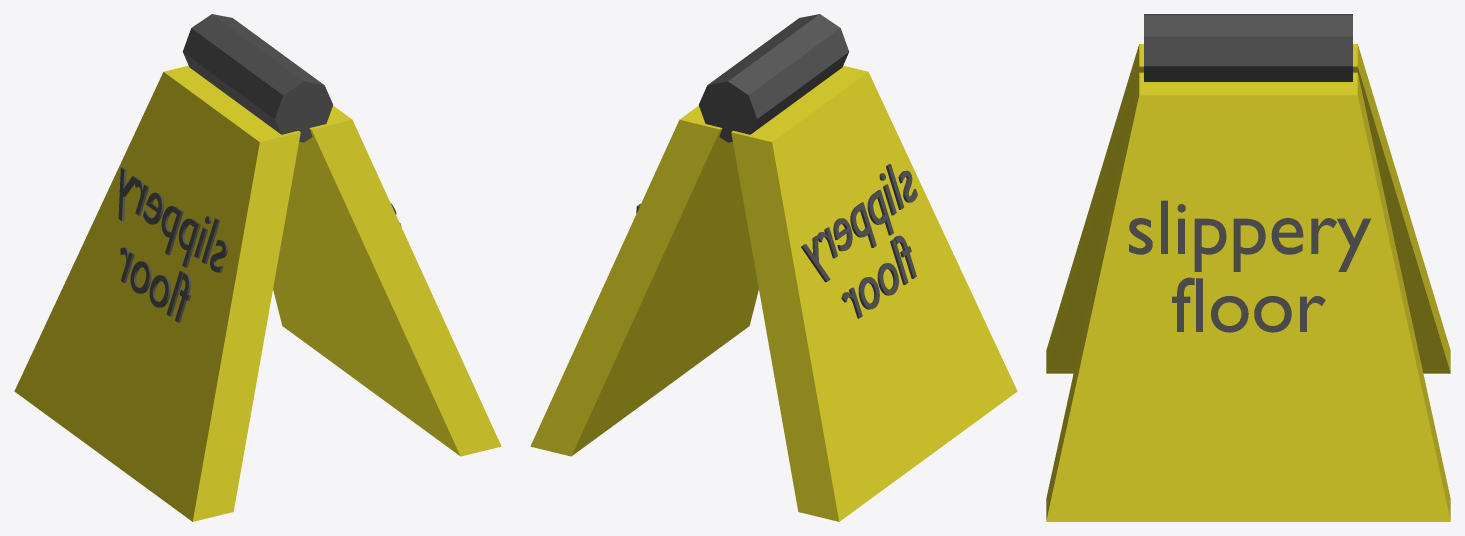
File: slippery floor sign.fbx
The picture shows the model from 3 angles, left to right: view 1: azimuth 30°, elevation 25°; view 2: azimuth 150°, elevation 25°; view 3: azimuth 270°, elevation 25°; orthographic projection. The views are drawn at different scales.
Parts seen in each view (by area): view 1: slippery floor sign, Text; view 2: slippery floor sign, Text; view 3: slippery floor sign, Text.
Boxes of the visible parts, bbox=[...] form: slippery floor sign: bbox=[14, 14, 501, 521]; Text: bbox=[118, 167, 401, 322]; slippery floor sign: bbox=[530, 14, 1017, 521]; Text: bbox=[636, 164, 917, 318]; slippery floor sign: bbox=[1046, 14, 1450, 521]; Text: bbox=[1129, 200, 1370, 332].
Bounding box in the file's own units: 200 × 230 × 200.
